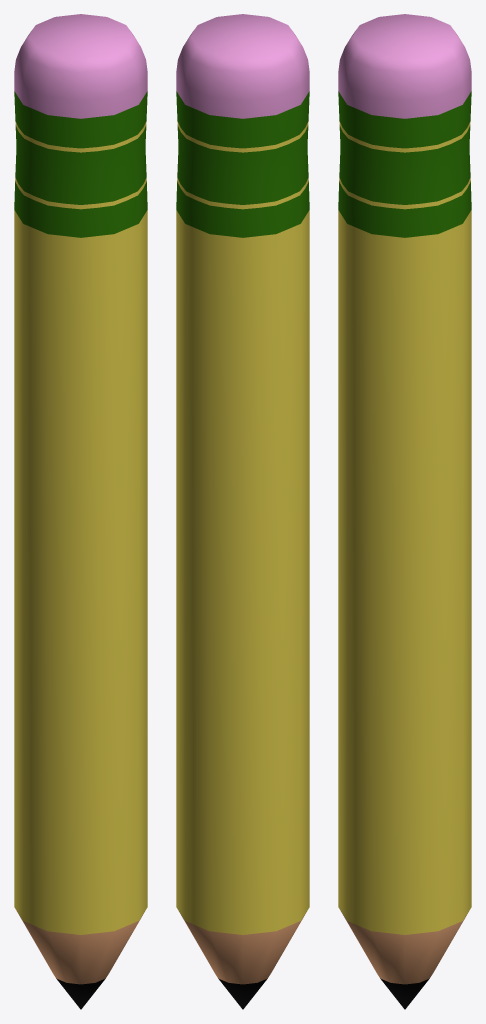
The model's file is pencil_medium.fbx.
3 views of the same model, side by side, from view 1: azimuth 30°, elevation 25°; view 2: azimuth 150°, elevation 25°; view 3: azimuth 330°, elevation 25° (orthographic).
Visible parts, largest first — view 1: pencil_med; view 2: pencil_med; view 3: pencil_med.
Boxes of the visible parts, x1,y1,x2,y2 form: pencil_med: (14, 14, 147, 1009); pencil_med: (176, 14, 309, 1009); pencil_med: (338, 14, 471, 1009).
Size of the model in its own units: 0.4326 by 3.49 by 0.4326.
